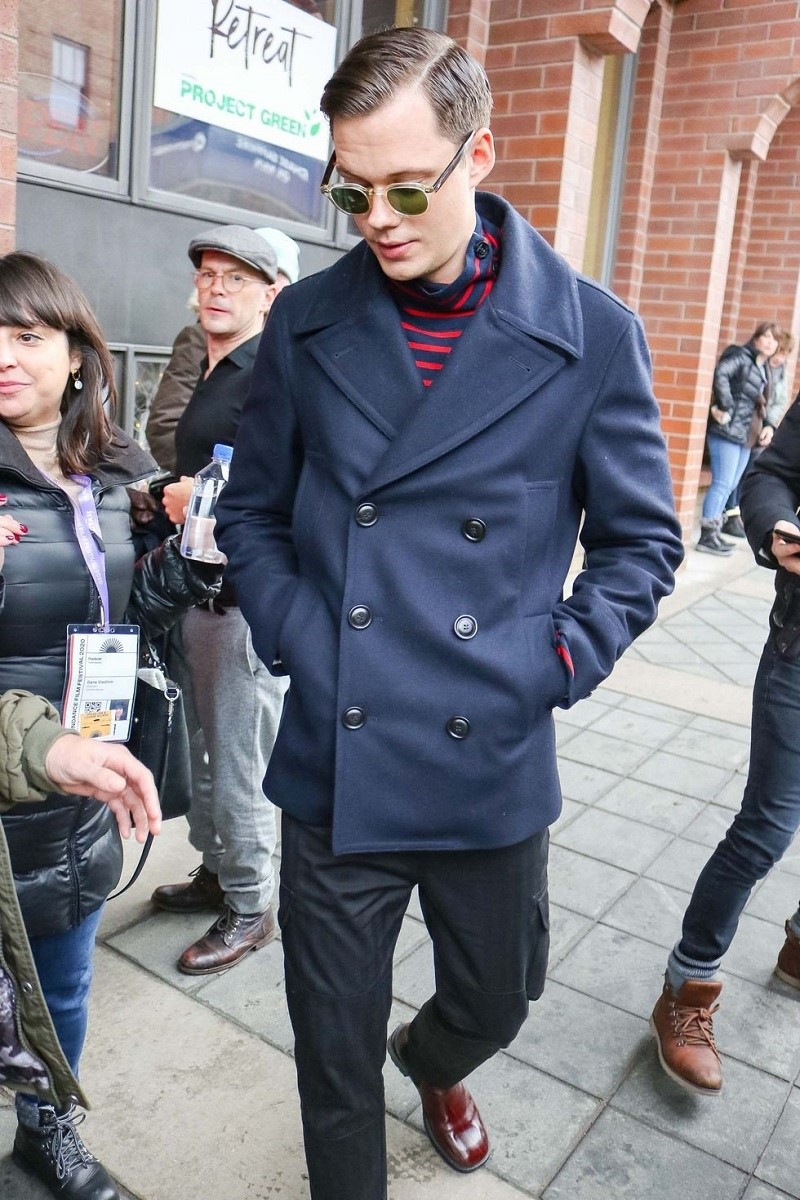face_no_mask: (321, 37, 505, 278), (2, 252, 87, 428), (190, 220, 277, 352), (748, 318, 779, 365)
